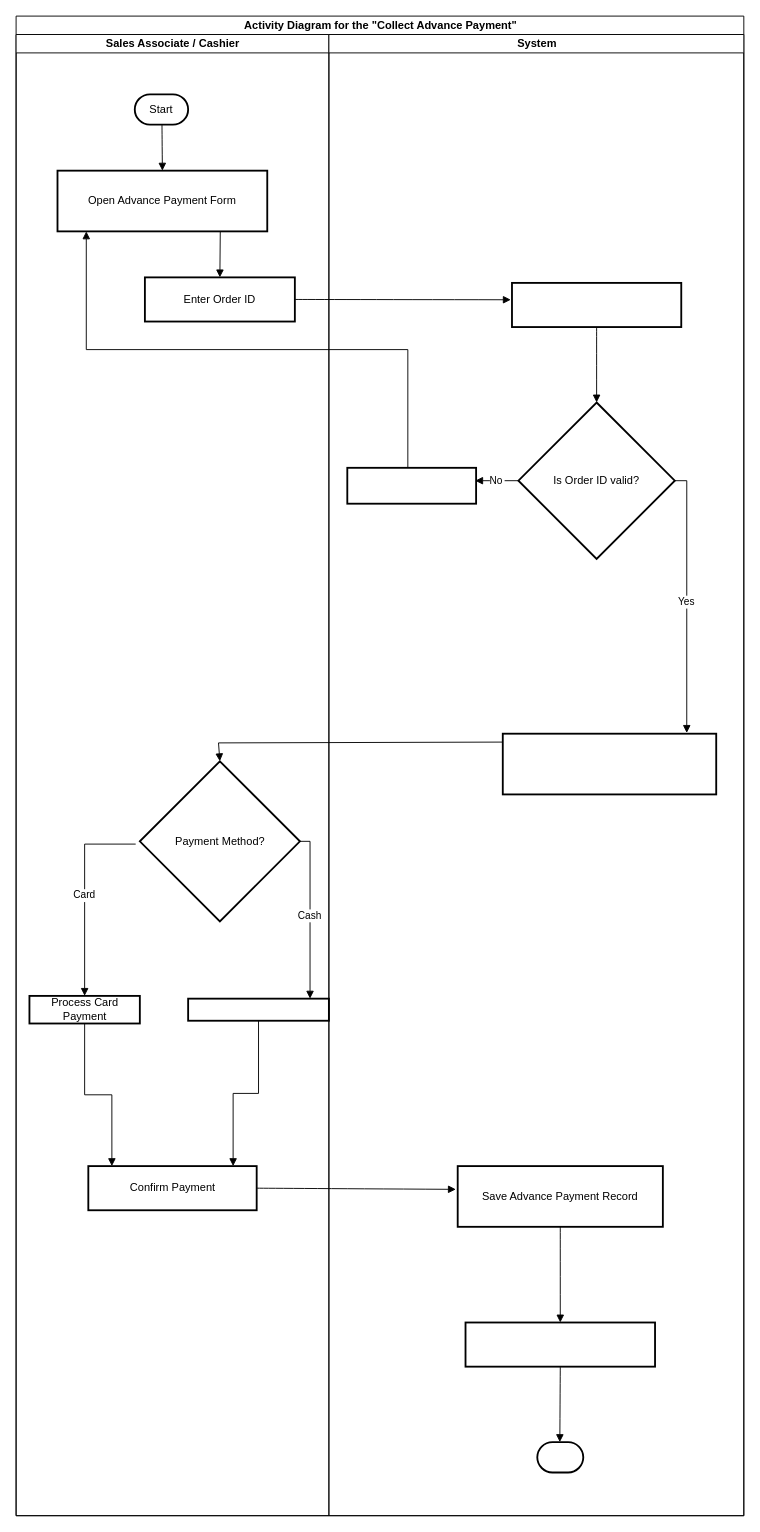
This 760x1532 diagram has some shape labels left out. Here are the shapes that lost their labels. From the top down, the centre of each, then its label:
the point at 596,305: Validate Order ID
the point at 411,485: Show Error Message
the point at 609,763: Enter Advance Amount & Payment Method
the point at 258,1009: Process Cash Payment
the point at 560,1344: Update Order Status
the point at 560,1457: End
